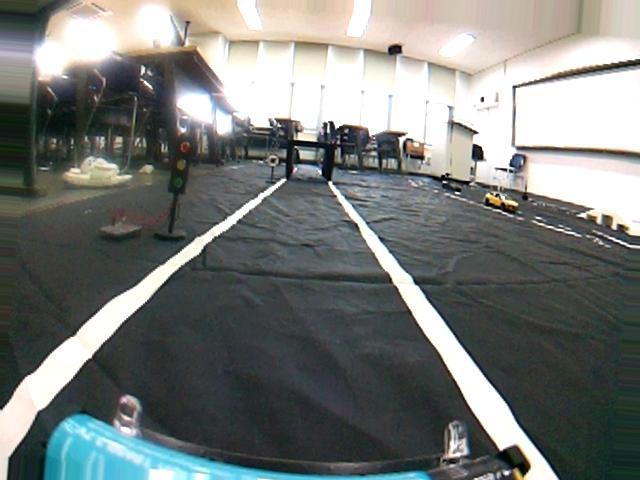straight: (4, 251, 640, 479)
yellow_light: (165, 131, 200, 200)
